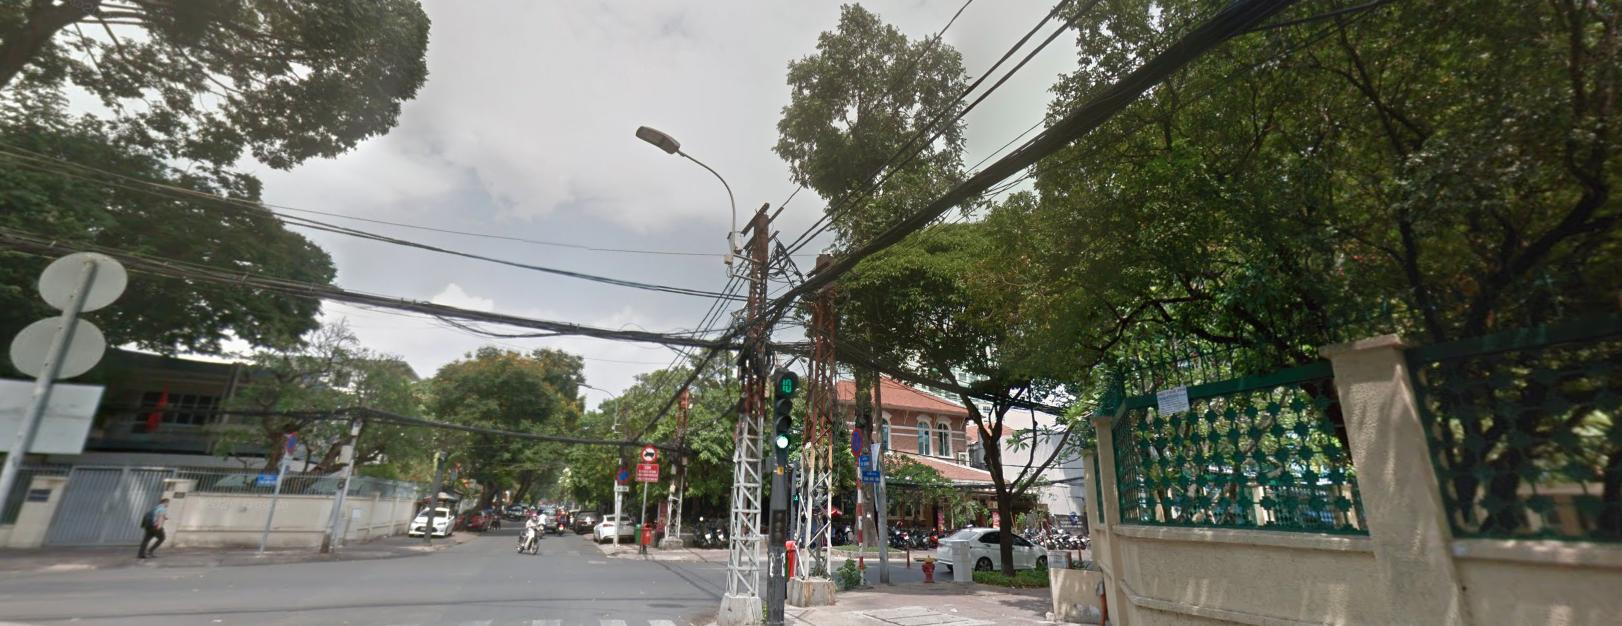Cam con lai: (641, 444, 656, 460)
Cam dung va do: (848, 425, 863, 454), (286, 428, 297, 451), (615, 467, 631, 482)
